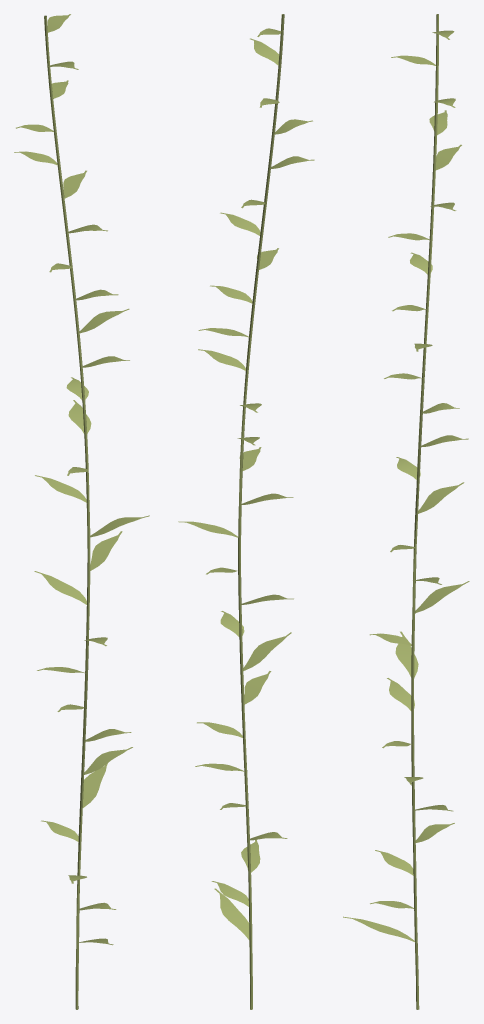
Rendered from kt_kelp_c.glb.
3 views of the same model, side by side, from view 1: azimuth 30°, elevation 25°; view 2: azimuth 210°, elevation 25°; view 3: azimuth 270°, elevation 25° (orthographic).
Visible parts, largest first — view 1: kt_kelp; view 2: kt_kelp; view 3: kt_kelp.
Boxes of the visible parts, <box> form: kt_kelp: <box>14,14,149,1009</box>; kt_kelp: <box>178,14,314,1009</box>; kt_kelp: <box>343,14,469,1009</box>.
Size of the model in its own units: 2.39 by 21 by 2.45.
